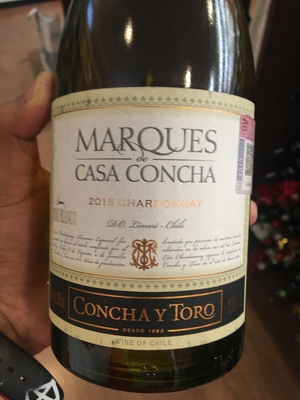marques de casa concha chardonnay: (48, 12, 258, 384)
